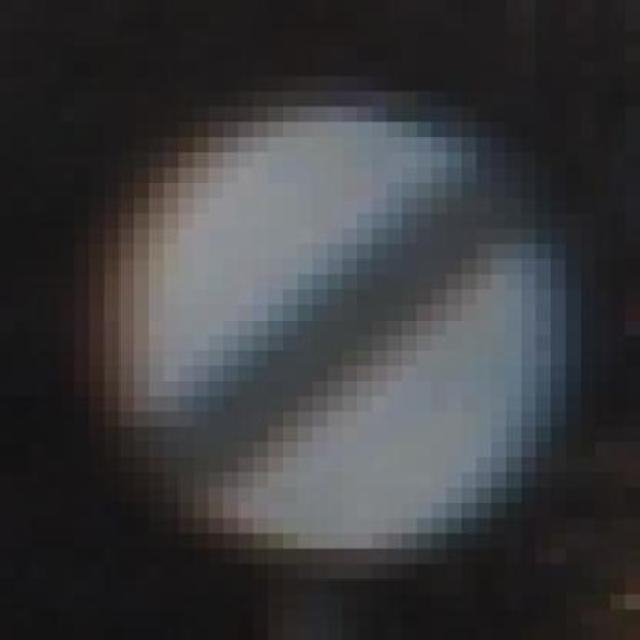End of all speed and passing limits: (74, 61, 580, 564)
